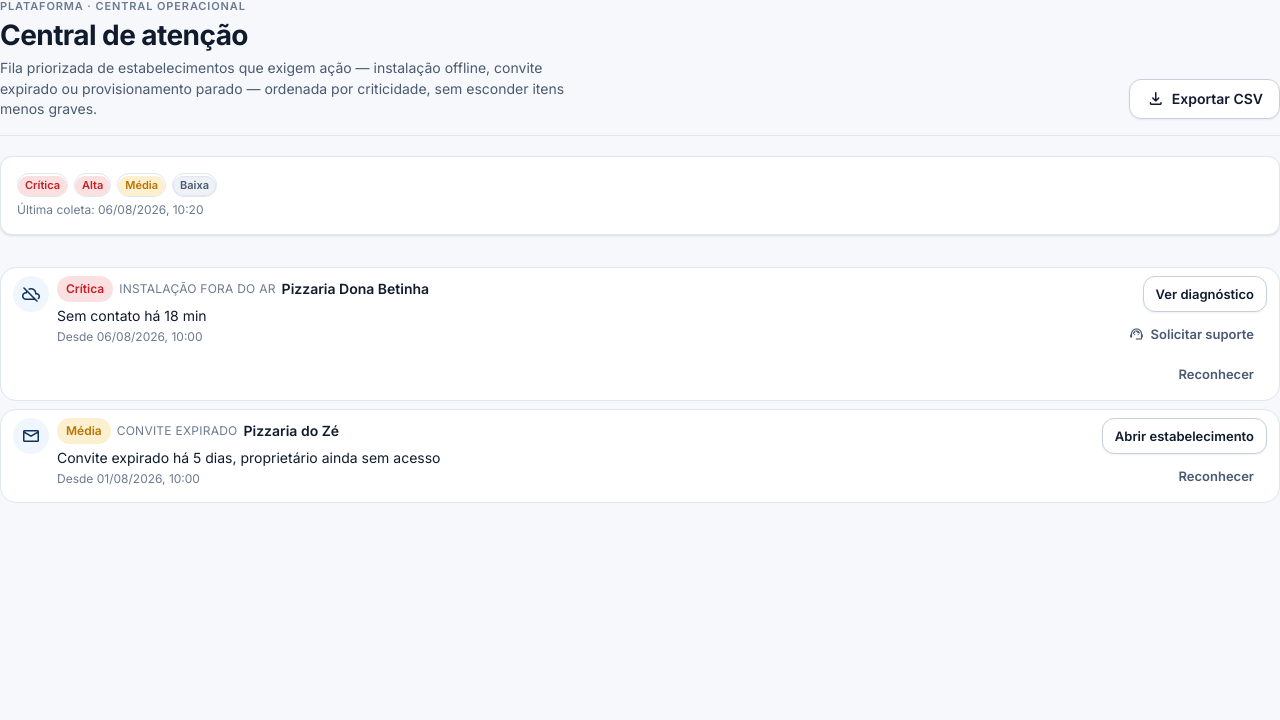
Scenario: PlatformAttentionPage › reconhecer exige motivo e não é um atalho de um clique (ação não trivialmente destrutiva mesmo assim passa por confirmação)
Step 1. Click the 1st button "Reconhecer" → [1216, 374], box left=1166, top=356, right=1267, bottom=392
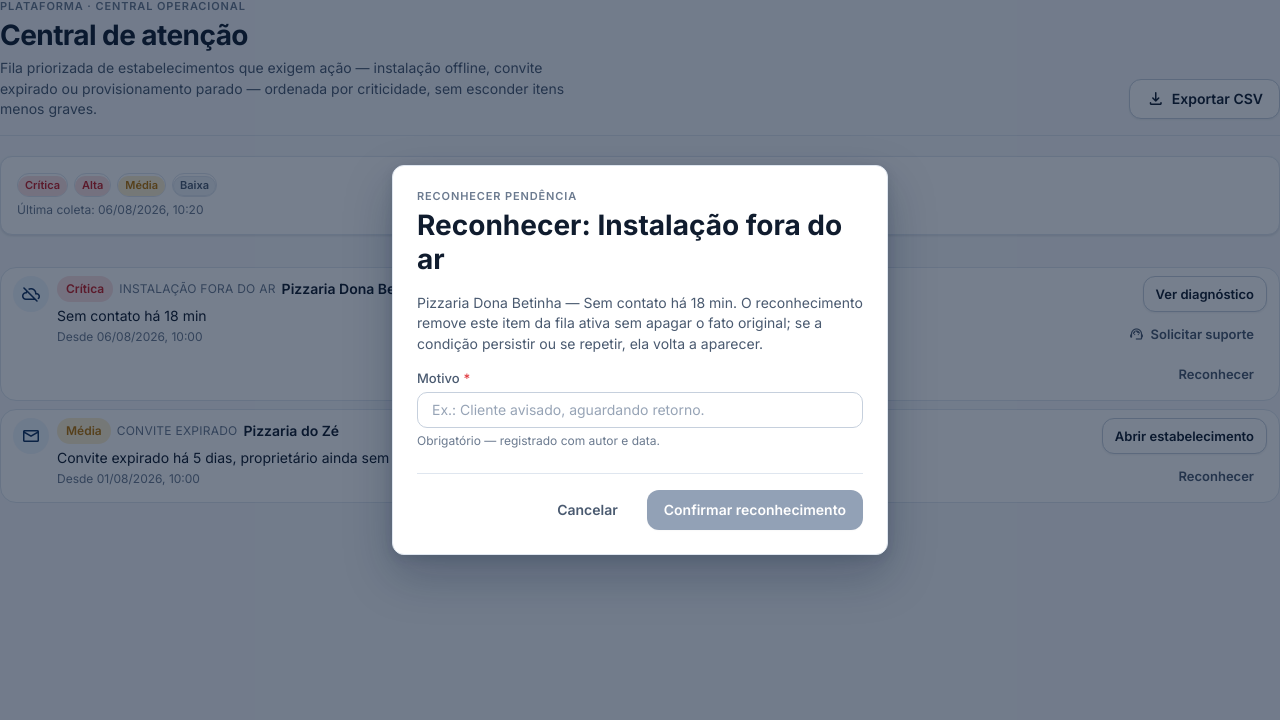
Expected: the button "Confirmar reconhecimento" is disabled, left=647, top=490, right=863, bottom=530
Step 2. Type "Cliente avisado." into the field labelled "Motivo *" → [640, 410], box left=430, top=399, right=850, bottom=421
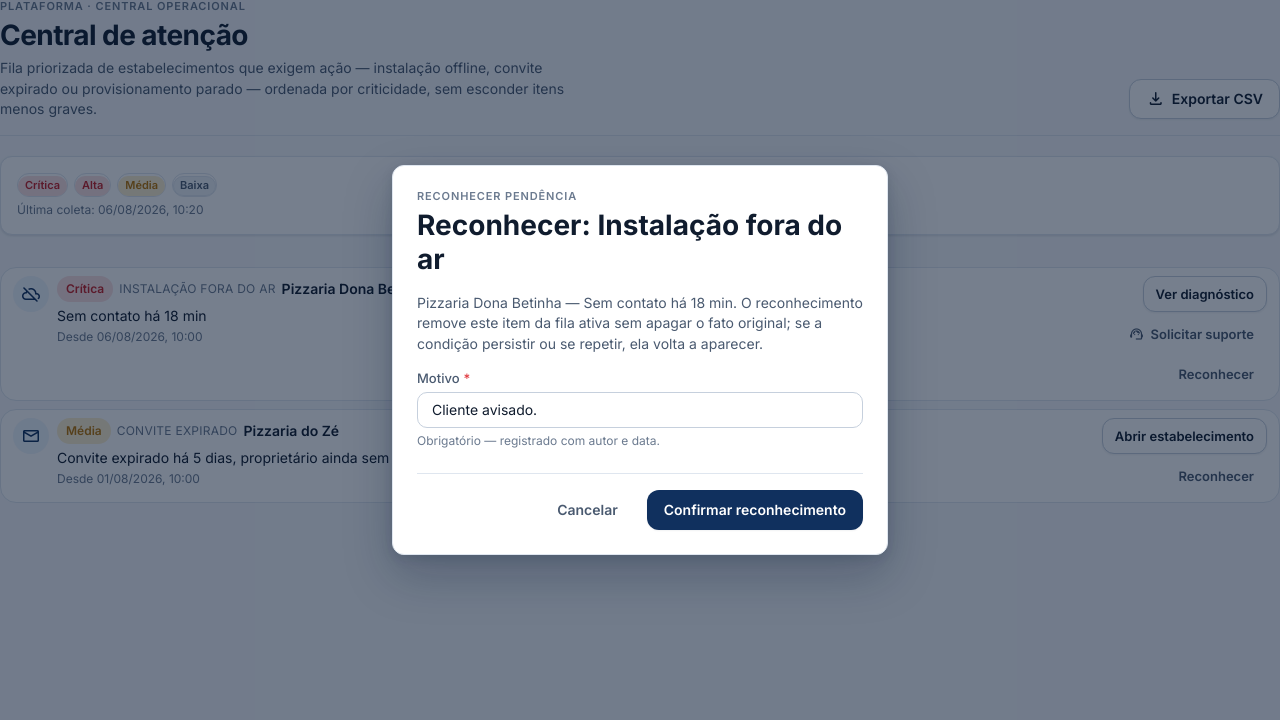
Expected: the button "Confirmar reconhecimento" is enabled
Step 3. Click the button "Confirmar reconhecimento" → [755, 510], box left=647, top=490, right=863, bottom=530
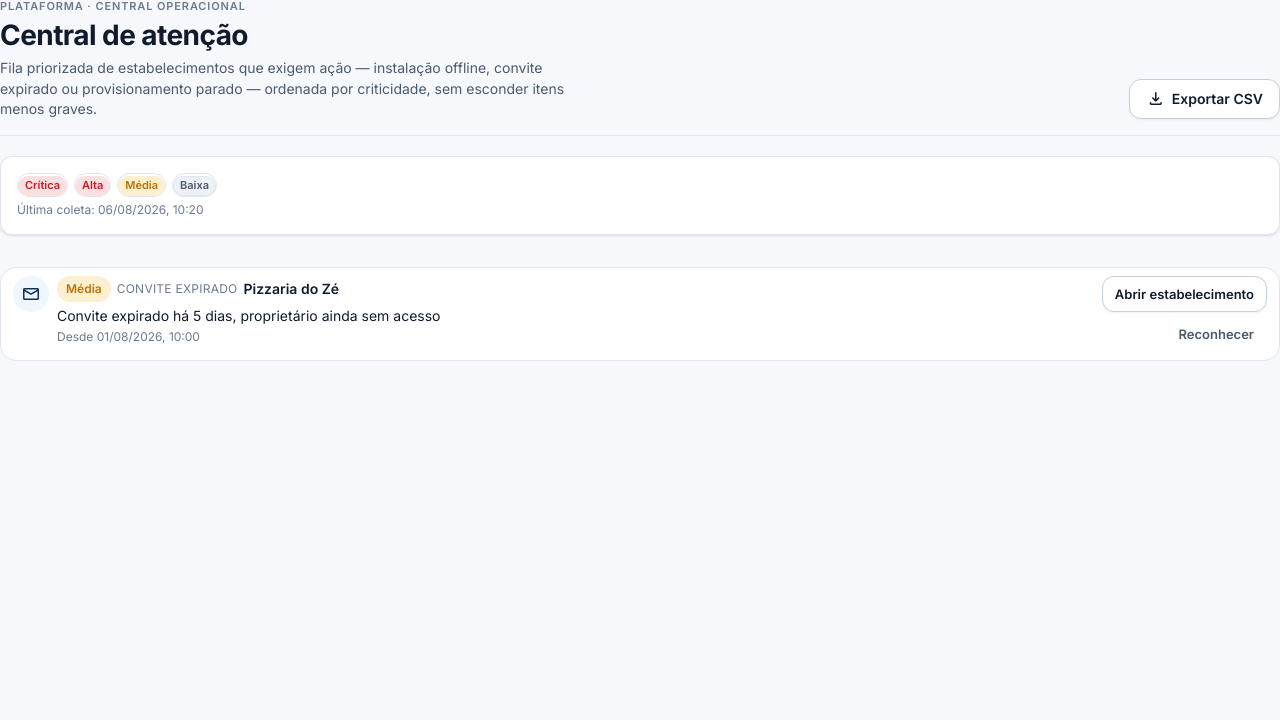
Expected: the text "Sem contato há 18 min" is gone
